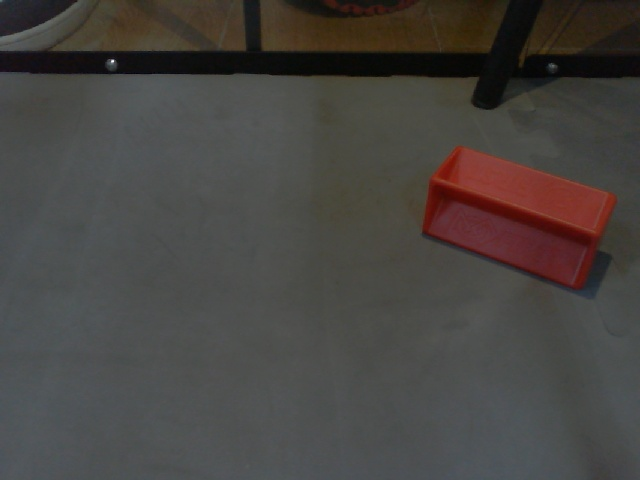RedSample: (419, 140, 623, 296)
